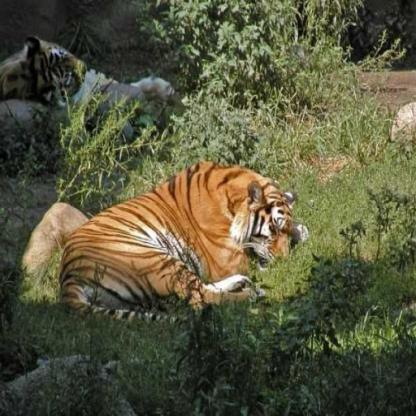Tiger: (58, 126, 320, 336), (4, 24, 82, 114)
